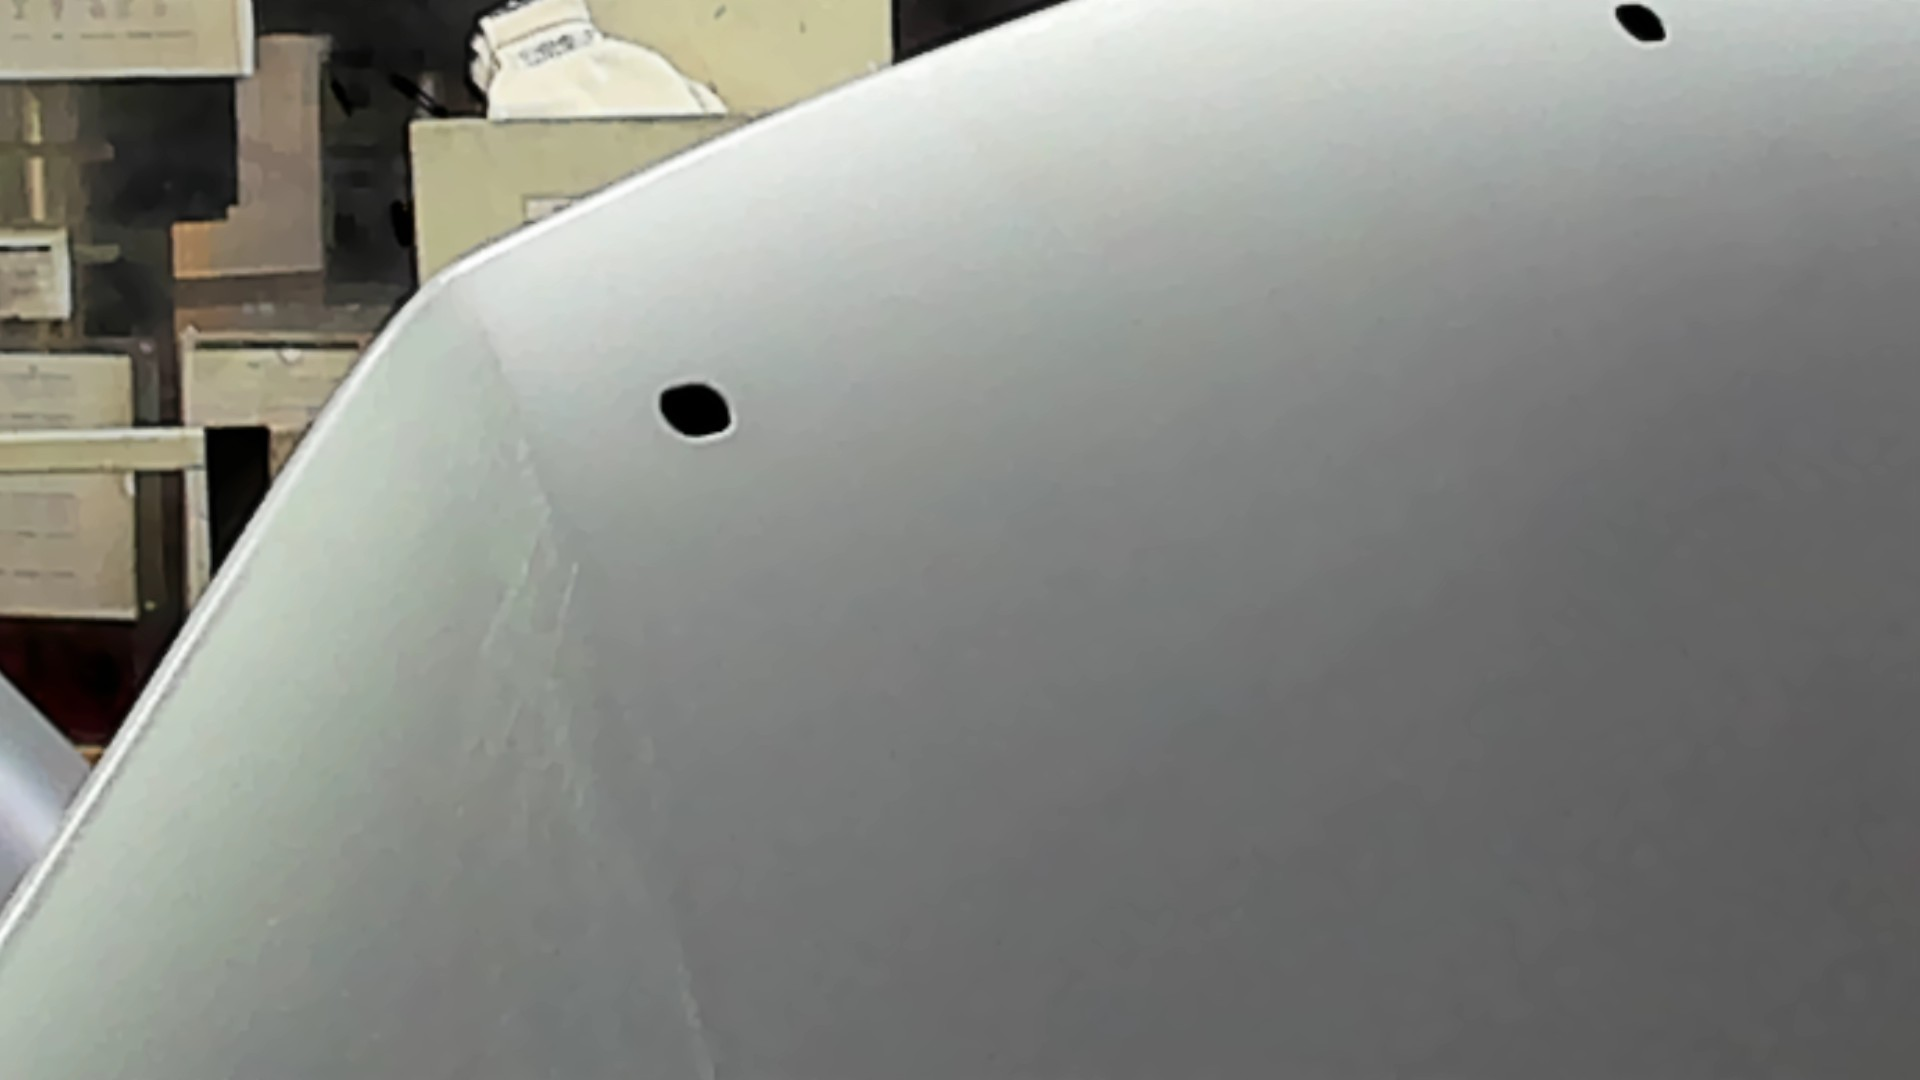amorfo: (651, 373, 746, 444), (1609, 1, 1675, 49)
